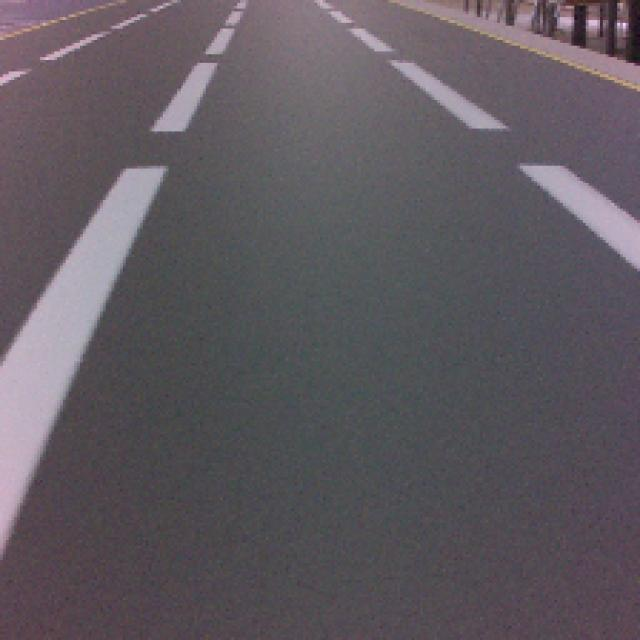Road: (0, 348, 640, 640)
